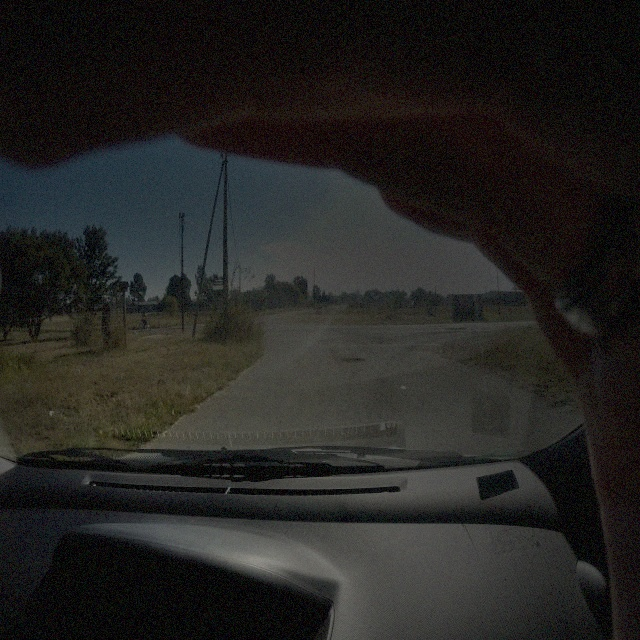pothole: (341, 355, 367, 364)
